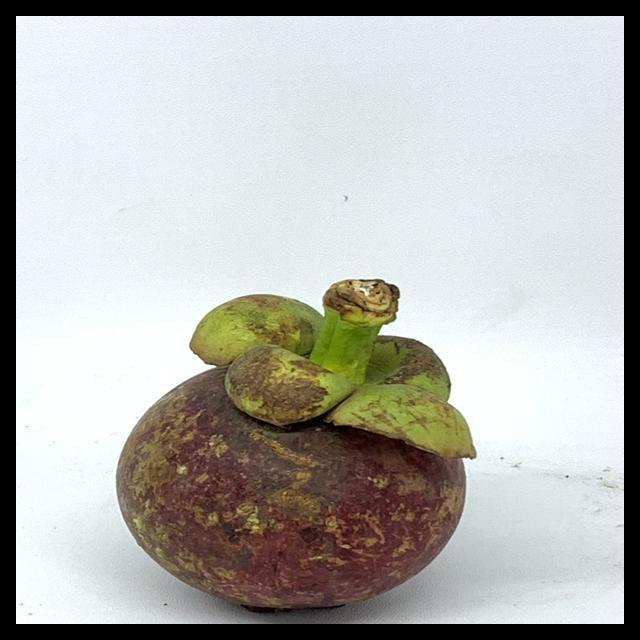mangosteen: (113, 258, 495, 624)
